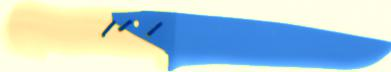Knife: (4, 4, 391, 72)
